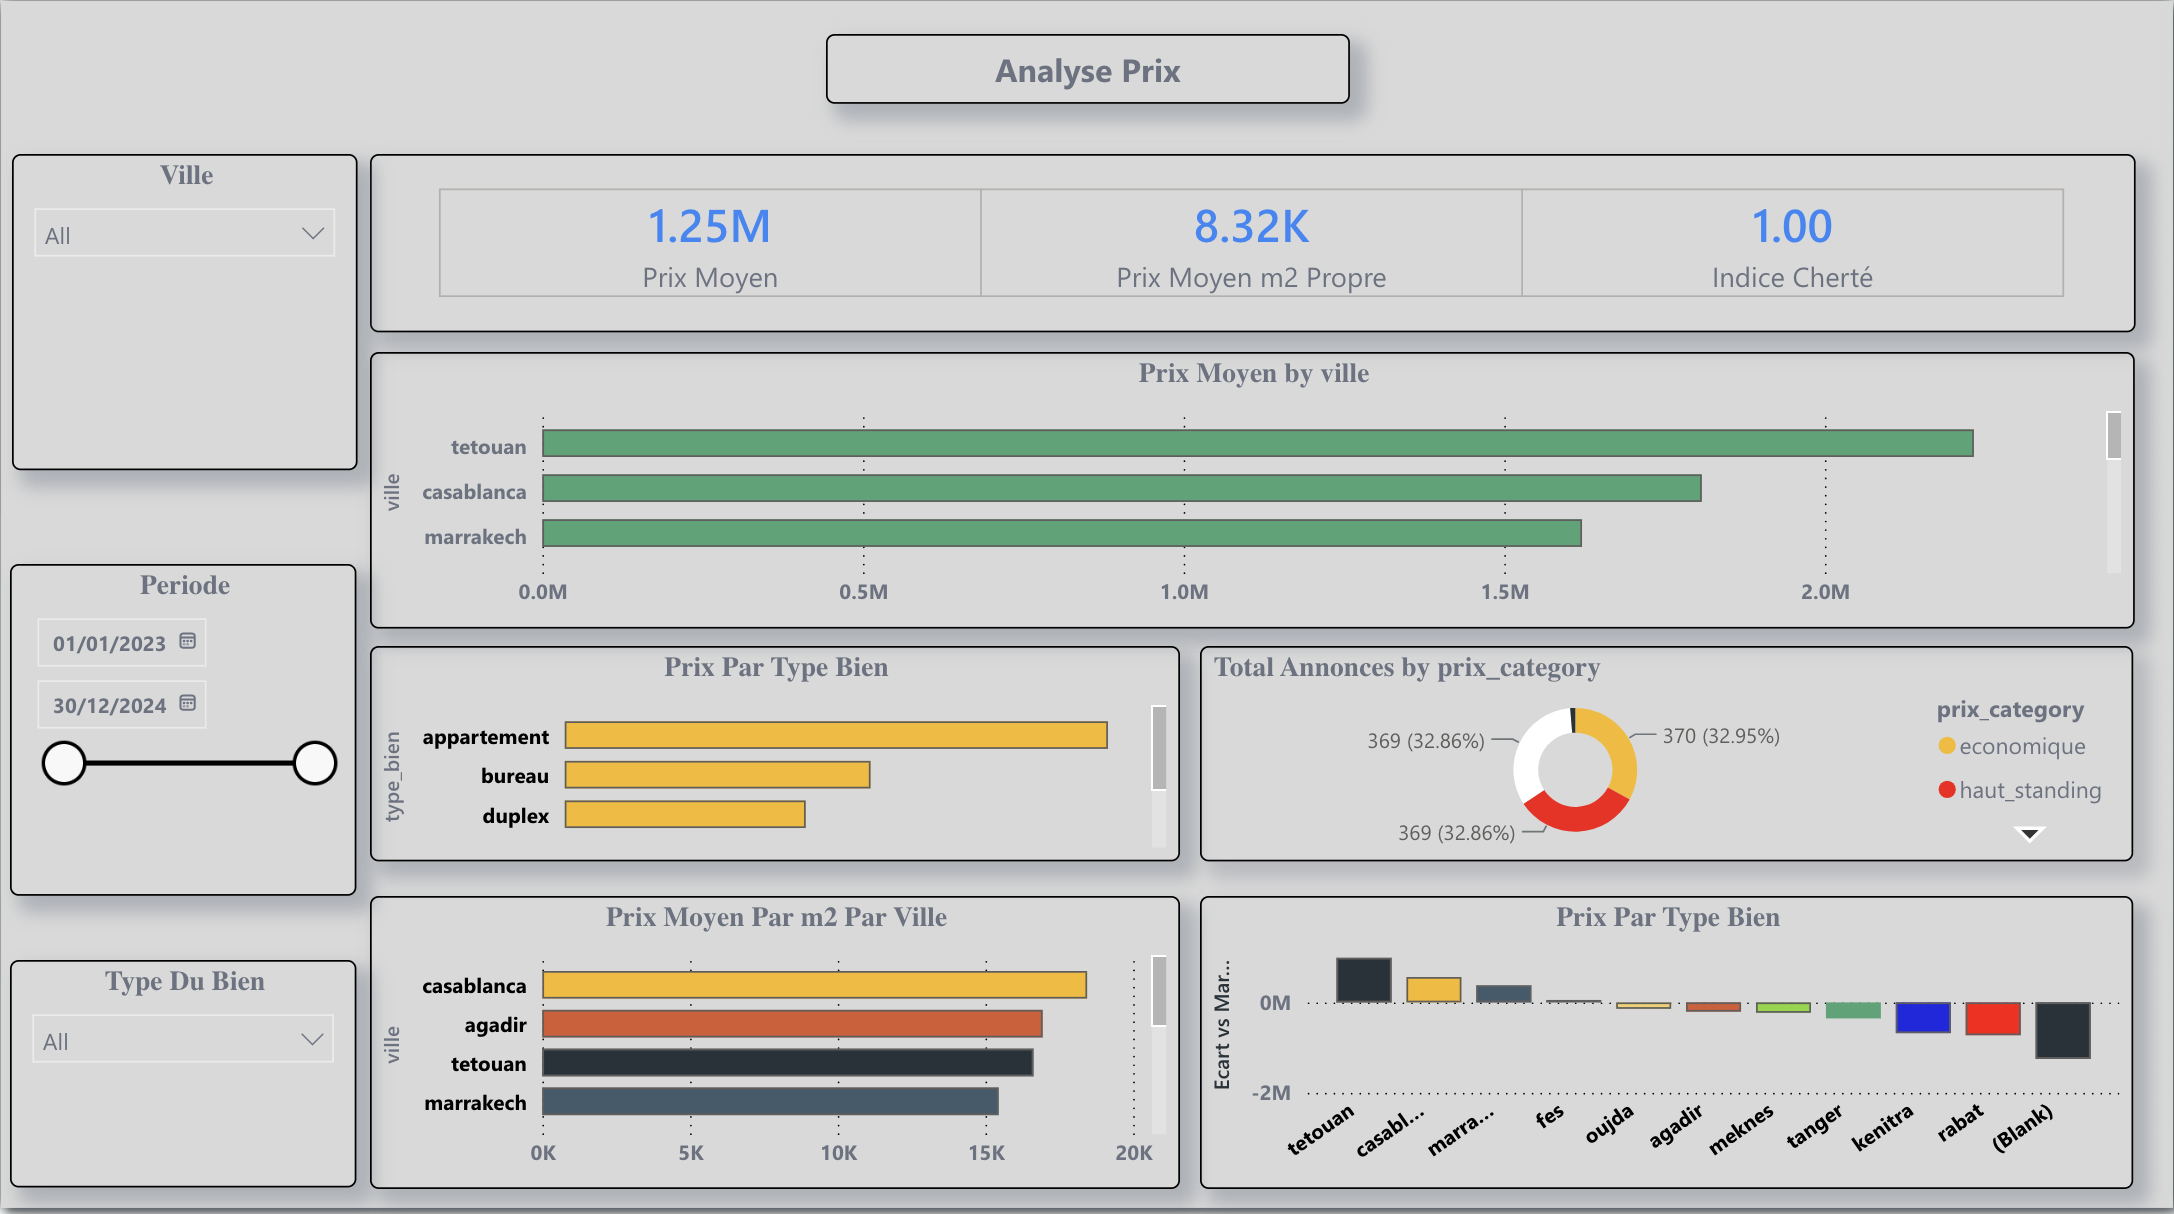

What the dashboard file says about the page in this screenshot:
{"tool":"powerbi","page":{"name":"Analyse Prix","canvas":[1280,720],"ordinal":2},"visuals":[{"type":"shape","box":[0,0,1280,720],"z":0},{"type":"shape","box":[0,0,1280,720],"z":1000},{"type":"cardVisual","fields":{"Data":["_measures_glob_page.Prix Moyen","price_analysis.Prix Moyen m2 Propre","price_analysis.Indice Cherté"]},"box":[224,98.3,1024.5,103.5],"z":2000},{"type":"textbox","box":[488.7,28.8,304,40.6],"z":3000},{"type":"slicer","title":"Ville","fields":{"Values":["gold subdim_ville.ville"]},"box":[15.7,98.3,200.5,183.4],"z":4000},{"type":"slicer","title":"Type Du Bien ","fields":{"Values":["gold subdim_type_bien.type_bien"]},"box":[15.5,566.9,201.1,132.2],"z":5000},{"type":"slicer","title":"Periode","fields":{"Values":["gold dim_date.date_publication"]},"box":[15.5,336.2,201.1,192.7],"z":6000},{"type":"clusteredBarChart","fields":{"Category":["gold subdim_ville.ville"],"Y":["_measures_glob_page.Prix Moyen"]},"box":[223.6,213.8,1024,160.4],"z":7000},{"type":"clusteredBarChart","title":"Prix Moyen Par m2 Par Ville","fields":{"Category":["gold subdim_ville.ville"],"Y":["_measures_glob_page.Prix Moyen par m2"]},"box":[223.6,528.9,469.8,170.2],"z":8000},{"type":"clusteredBarChart","title":"Prix Par Type Bien","fields":{"Category":["gold subdim_type_bien.type_bien"],"Y":["Sum(gold fact_annonces.prix)"]},"box":[223.6,384,469.8,125.2],"z":9000},{"type":"donutChart","fields":{"Category":["gold dim_category.prix_category"],"Y":["_measures_glob_page.Total Annonces"]},"box":[706.1,384,541.5,125.2],"z":10000},{"type":"clusteredColumnChart","title":"Prix Par Type Bien","fields":{"Category":["gold subdim_ville.ville"],"Y":["price_analysis.Écart vs Marché"]},"box":[706.1,528.9,541.5,170.2],"z":11000}]}

Visuals, with their boxes in screenshot pixels (x1, y1, x2, y2), scaled from the page's 1280x720 canvas onto the 2174x1214 screenshot:
shape: [0,0,2173,1213]
shape: [0,0,2173,1213]
cardVisual - _measures_glob_page.Prix Moyen x price_analysis.Prix Moyen m2 Propre: [380,166,2120,340]
textbox: [830,49,1346,117]
"Ville" slicer: [27,166,367,475]
"Type Du Bien " slicer: [26,956,368,1179]
"Periode" slicer: [26,567,368,892]
clusteredBarChart - gold subdim_ville.ville x _measures_glob_page.Prix Moyen: [380,360,2119,631]
"Prix Moyen Par m2 Par Ville" clusteredBarChart: [380,892,1178,1179]
"Prix Par Type Bien" clusteredBarChart: [380,647,1178,859]
donutChart - gold dim_category.prix_category x _measures_glob_page.Total Annonces: [1199,647,2119,859]
"Prix Par Type Bien" clusteredColumnChart: [1199,892,2119,1179]
